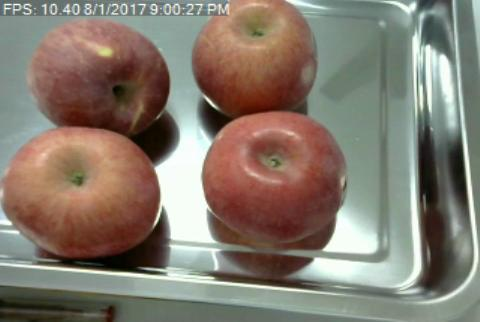apple: (1, 126, 162, 257), (201, 111, 349, 242), (27, 19, 170, 131), (194, 0, 320, 113)
